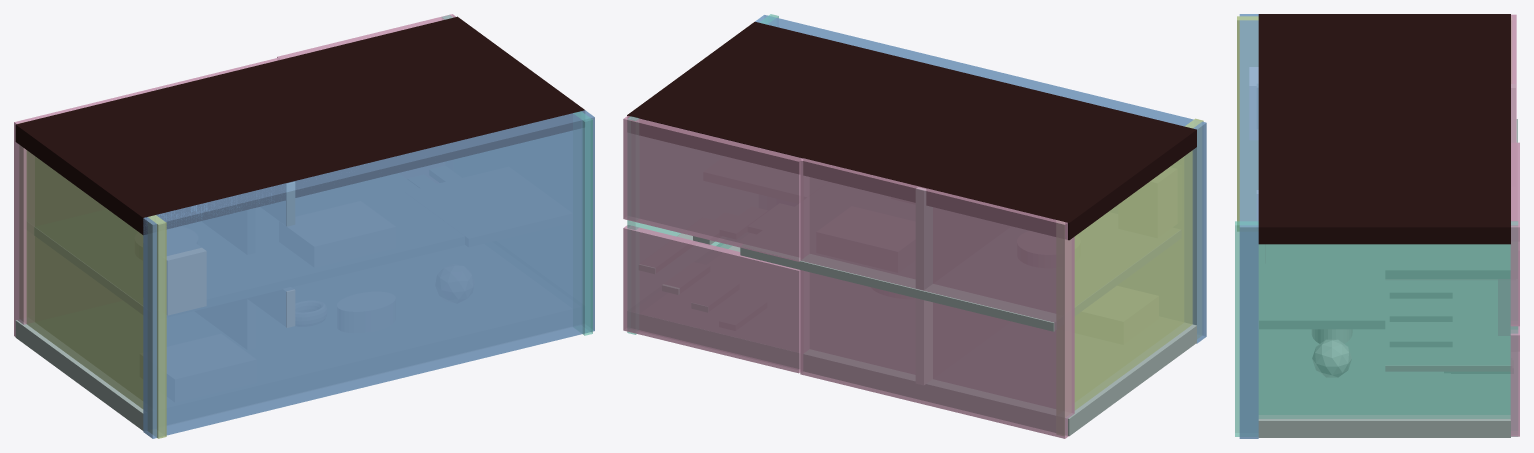
The model's file is чалка06.fbx.
The picture shows the model from 3 angles, left to right: view 1: azimuth 30°, elevation 25°; view 2: azimuth 150°, elevation 25°; view 3: azimuth 270°, elevation 25°; orthographic projection.
Parts seen in each view (by area): view 1: стенаN, крыш, стена.003 E, стенаS, фунд, стена.002 W, Плита, перекр, стенаS.001; view 2: крыш, стенаS, стена.003 E, дверь, стенаS.001, фунд, стенаN, перекр, стена.001, стена.005, стена.002 W; view 3: крыш, стена.002 W, фунд, стенаN, перекр, перекр.001, стена.003 E, стенаS, Лестн.клетка, стенаS.001, унитаз, дверь (+6 smaller).
Part boxes in pixels (x1,y1,x2,y2): стенаN: (143, 110, 594, 438); крыш: (15, 16, 585, 234); стена.003 E: (19, 145, 166, 438); стенаS: (14, 57, 280, 336); фунд: (15, 319, 143, 430); стена.002 W: (442, 15, 592, 335); Плита: (167, 248, 206, 315); перекр: (34, 227, 142, 314); стенаS.001: (277, 14, 455, 59); крыш: (627, 21, 1196, 240); стенаS: (800, 158, 1074, 438); стена.003 E: (1056, 118, 1203, 435); дверь: (623, 225, 803, 373); стенаS.001: (623, 116, 803, 261); фунд: (631, 243, 1196, 436); стенаN: (755, 15, 1206, 343); перекр: (740, 230, 1181, 331); стена.001: (916, 187, 932, 289); стена.005: (916, 298, 932, 384); стена.002 W: (627, 14, 778, 334); крыш: (1258, 14, 1510, 244); стена.002 W: (1235, 221, 1518, 436); фунд: (1258, 244, 1510, 437); стенаN: (1239, 14, 1258, 438); перекр: (1266, 119, 1517, 278); перекр.001: (1259, 270, 1384, 328); стена.003 E: (1237, 16, 1511, 231); стенаS: (1498, 14, 1516, 335); Лестн.клетка: (1385, 358, 1511, 371); стенаS.001: (1510, 142, 1519, 326); унитаз: (1312, 340, 1351, 377); дверь: (1510, 326, 1519, 436).
Size of the model in its own units: 1600 by 740 by 903.
